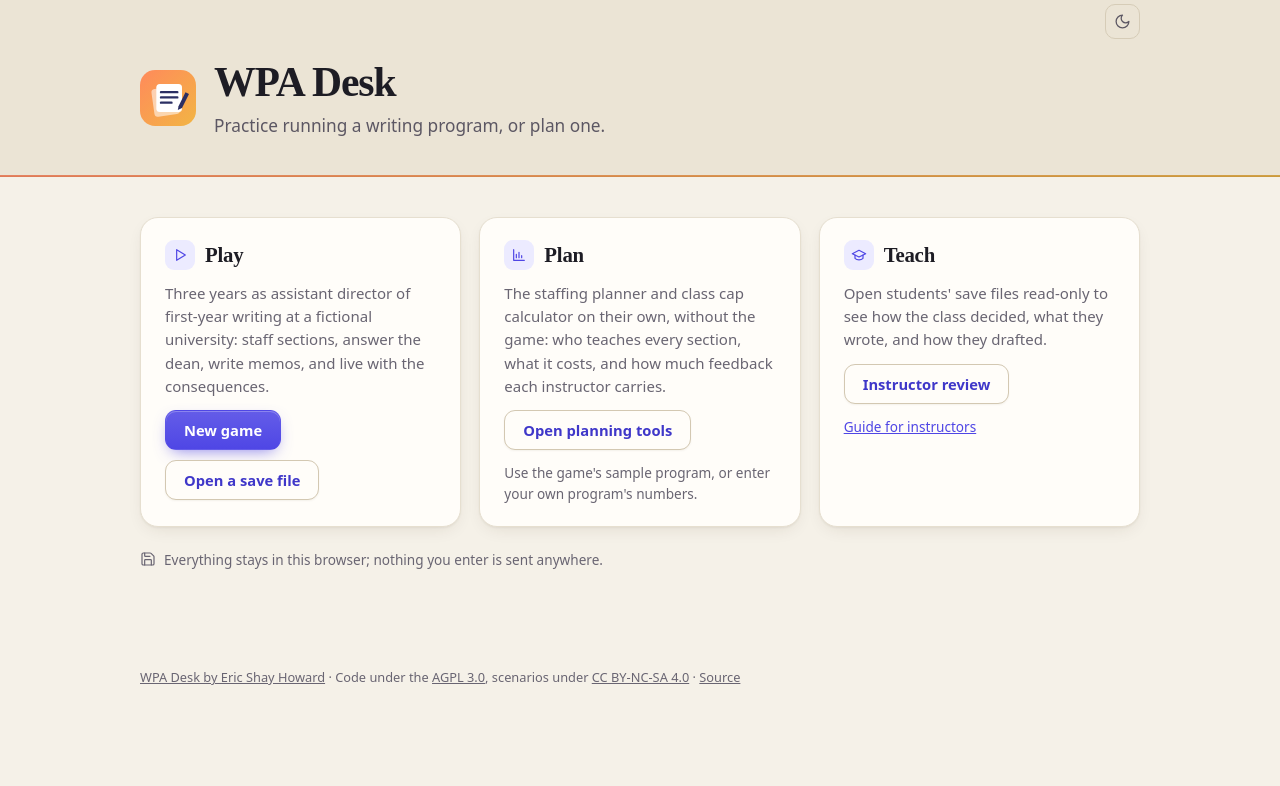
Test: playing The Cap Memo through the UI › shows the starting deficit and the dean's memo in the inbox
Click the button "New game".
click(223, 430)  # box [165,410,281,450]
(page scrolled)
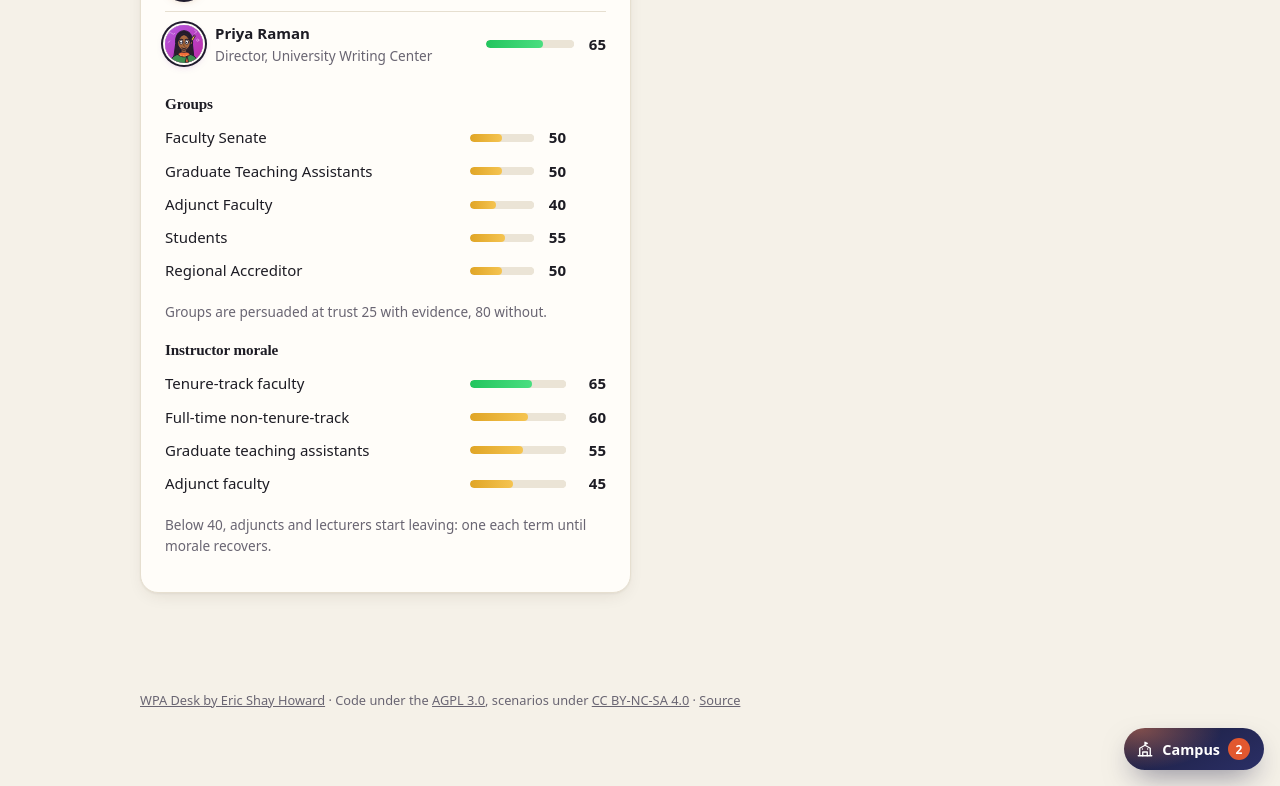
expect the element named "Adjunct faculty morale" is shown: met, box [470,480,566,488]
